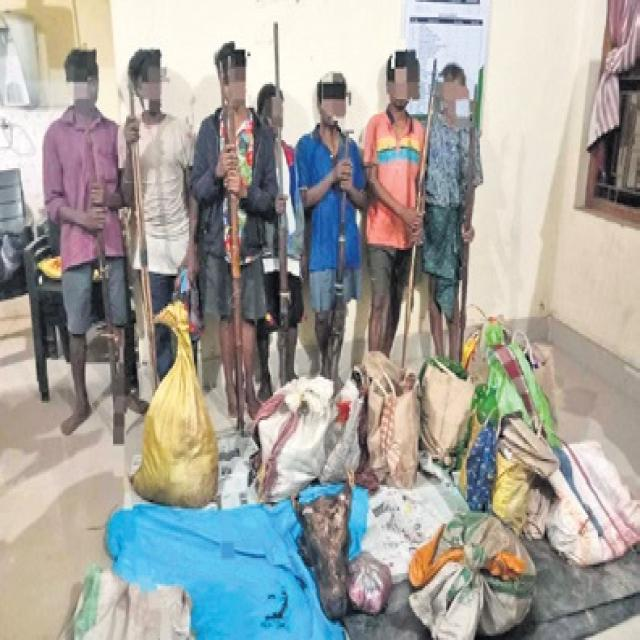animal: (238, 440, 478, 601)
poacher: (123, 21, 200, 364), (55, 31, 124, 404), (296, 66, 369, 344), (367, 41, 420, 369), (431, 63, 486, 321), (209, 30, 249, 325)
weapon: (125, 49, 155, 445), (226, 66, 248, 416)
